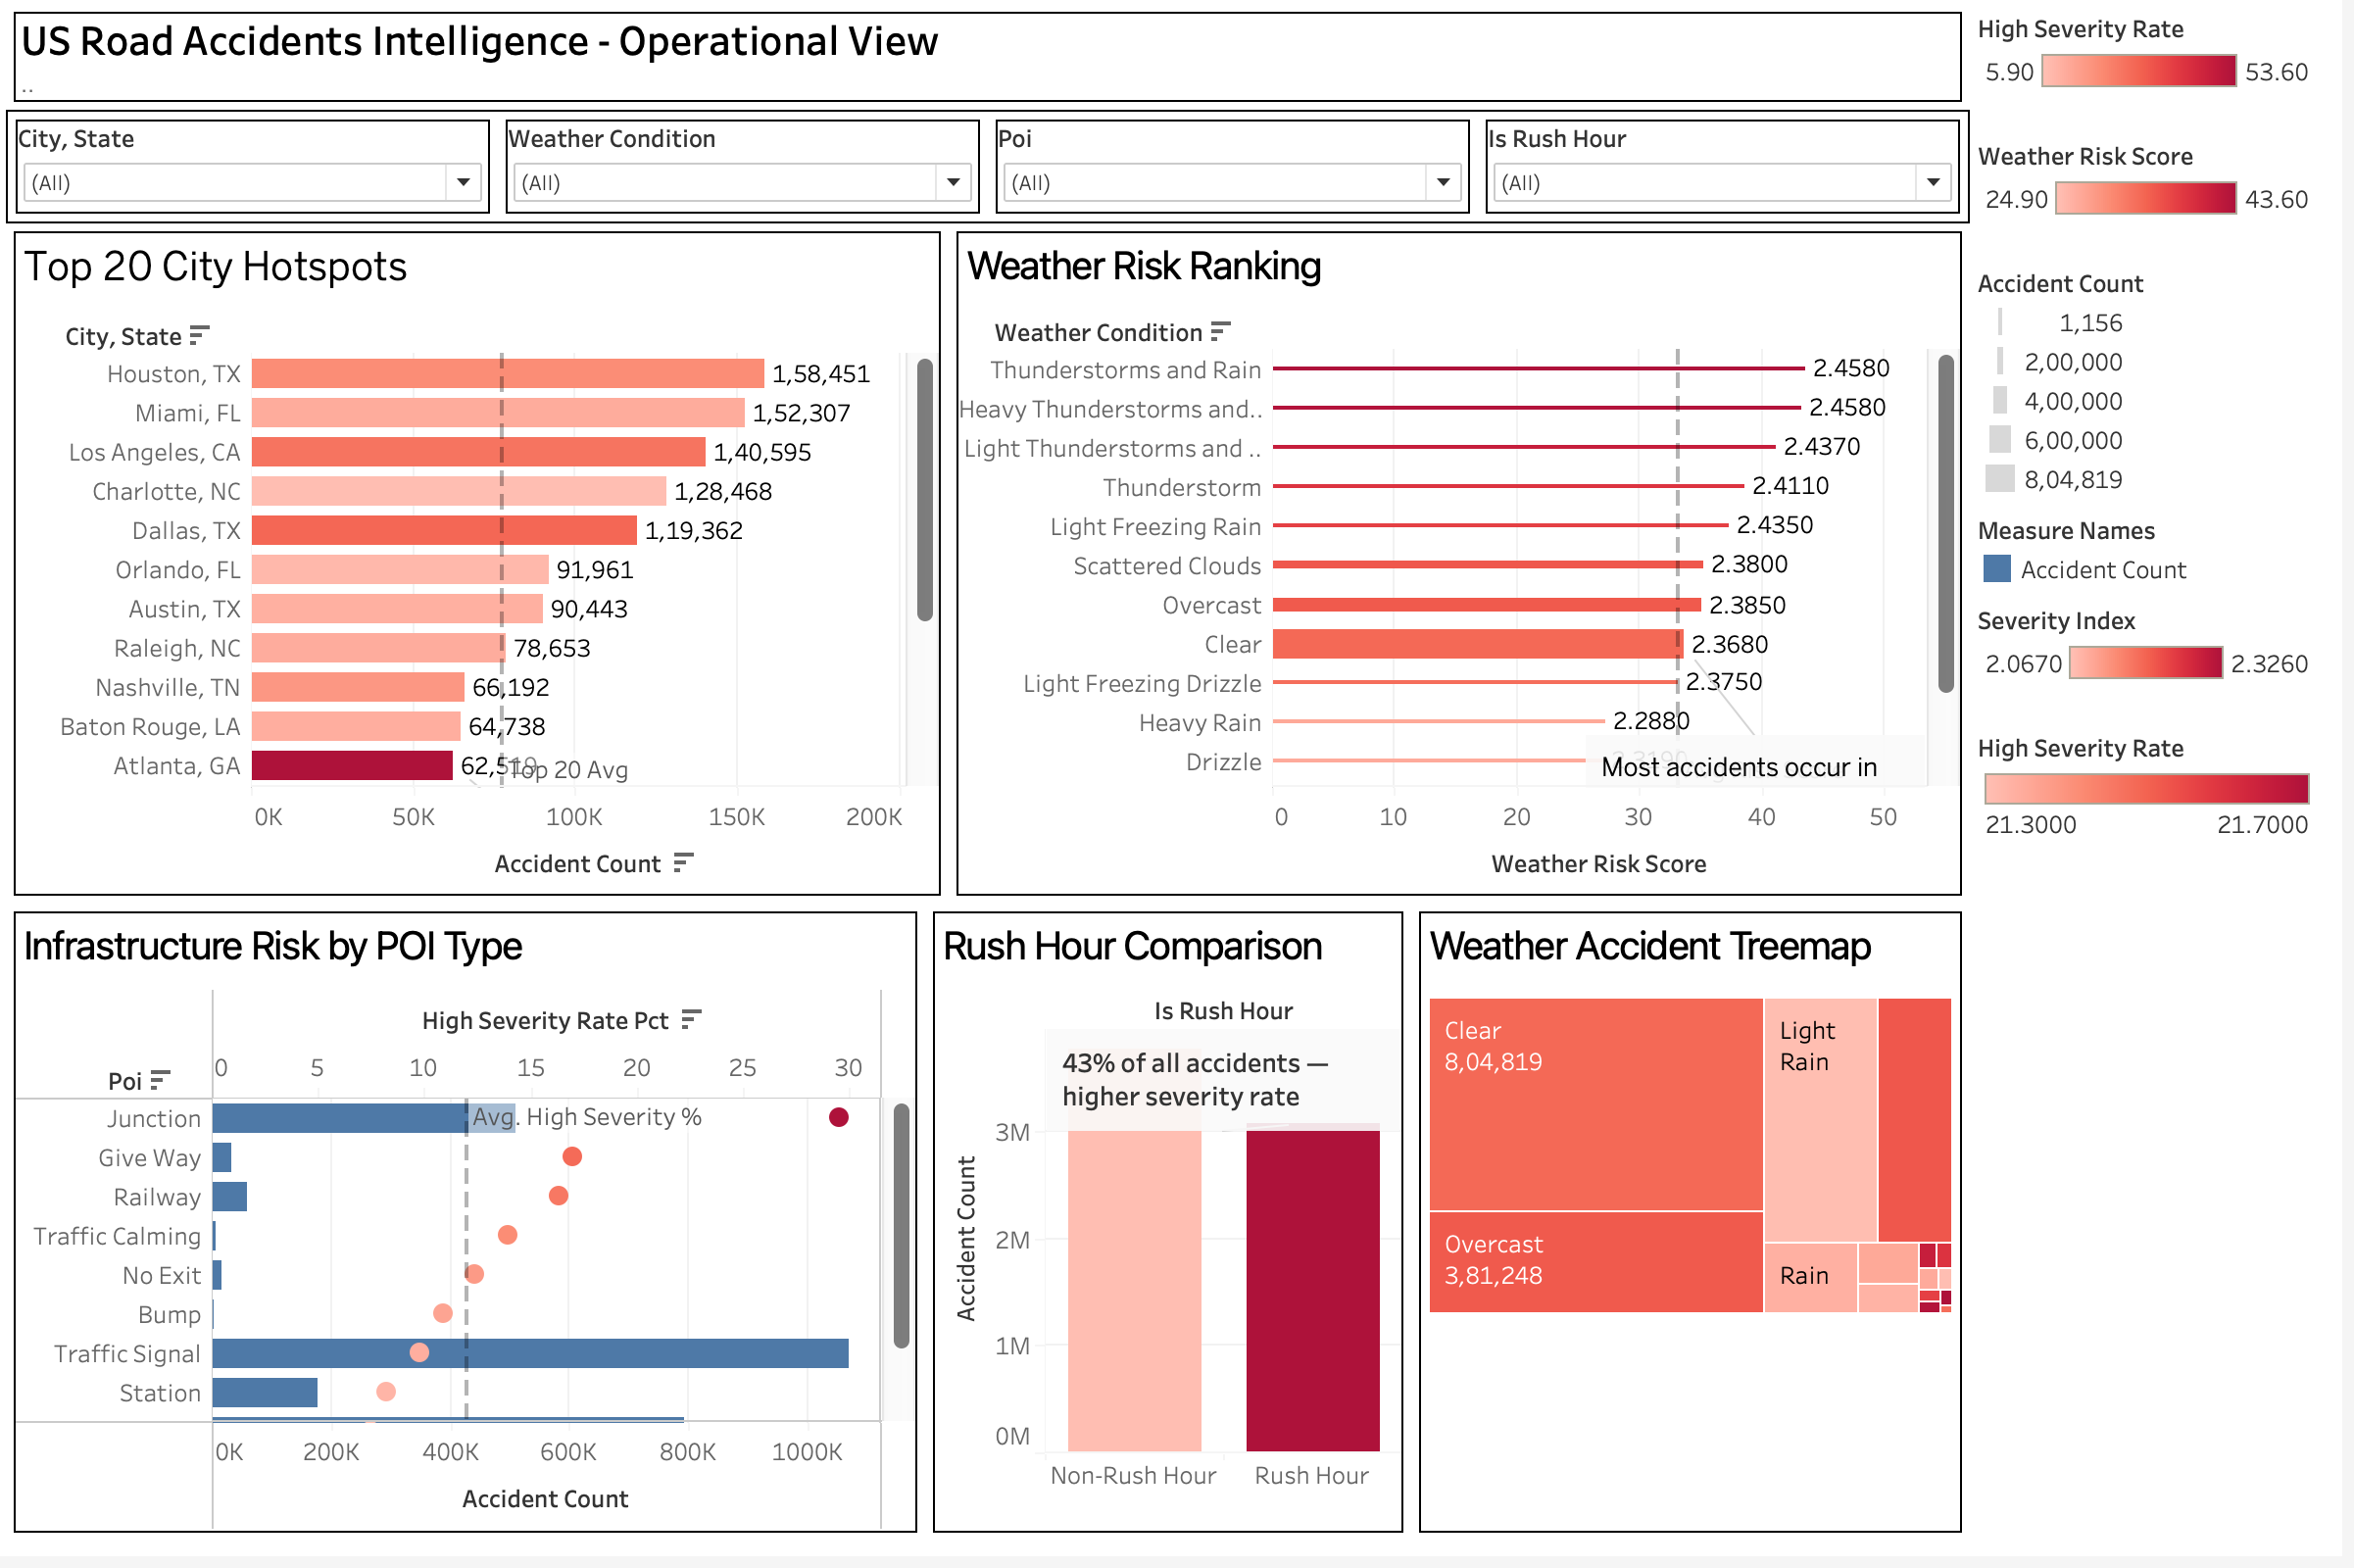

Layout of this report page (visuals, bound fields, positions):
{"tool":"tableau","page":{"name":"Dashboard 2","canvas":[1200,800],"ordinal":1},"visuals":[{"type":"text","box":[8,8,1002,54]},{"type":"legend","title":"Top 20 City Hotspots","param":"[federated.0jneq270983iii1dv6sha1ytug0k].[sum:high_severity_rate:qk]","box":[1010,8,182,65]},{"type":"filter","title":"Top 20 City Hotspots","param":"[federated.0jneq270983iii1dv6sha1ytug0k].[none:Calculation_4370828745777157:nk]","box":[9,63,250,56]},{"type":"filter","title":"Weather Accident Treemap","param":"[federated.1cgut1b17rxbs615b63tz1krf9w0].[none:weather_condition:nk]","box":[259,63,250,56]},{"type":"filter","title":"Infrastructure Risk by POI Type","param":"[federated.0glt0ar1gb2vox1bgq0sl1v5ow8e].[none:poi:nk]","box":[509,63,250,56]},{"type":"filter","title":"Rush Hour Comparison","param":"[federated.0b3kiio1dvg0961611c3r0l8f472].[none:is_rush_hour:nk]","box":[759,63,250,56]},{"type":"legend","title":"Weather Risk Ranking","param":"[federated.1cgut1b17rxbs615b63tz1krf9w0].[sum:weather_risk_score:qk]","box":[1010,73,182,65]},{"type":"worksheet","title":"Top 20 City Hotspots","mark":"Automatic","rows":["Calculation_4370828745777157"],"cols":["accident_count"],"box":[8,120,481,347]},{"type":"worksheet","title":"Weather Risk Ranking","mark":"Automatic","rows":["weather_condition"],"cols":["weather_risk_score"],"box":[489,120,521,347]},{"type":"legend","title":"Weather Risk Ranking","param":"[federated.1cgut1b17rxbs615b63tz1krf9w0].[sum:accident_count:qk]","box":[1010,138,182,126]},{"type":"legend","title":"Infrastructure Risk by POI Type","param":"[federated.0glt0ar1gb2vox1bgq0sl1v5ow8e].[:Measure Names]","box":[1010,264,182,46]},{"type":"legend","title":"Infrastructure Risk by POI Type","param":"[federated.0glt0ar1gb2vox1bgq0sl1v5ow8e].[sum:severity_index:qk]","box":[1010,310,182,65]},{"type":"legend","title":"Rush Hour Comparison","param":"[federated.0b3kiio1dvg0961611c3r0l8f472].[sum:high_severity_rate:qk]","box":[1010,375,182,65]},{"type":"worksheet","title":"Infrastructure Risk by POI Type","mark":"Automatic","rows":["poi"],"cols":["accident_count","high_severity_rate_pct"],"box":[8,467,468.7,325]},{"type":"worksheet","title":"Rush Hour Comparison","mark":"Automatic","rows":["accident_count"],"cols":["is_rush_hour"],"box":[476.7,467,248.3,325]},{"type":"worksheet","title":"Weather Accident Treemap","mark":"Automatic","box":[725,467,285,325]}]}

Visuals, with their boxes in screenshot pixels (x1, y1, x2, y2), scaled from the page's 1200x800 canvas onto the 2354x1568 screenshot:
text: 16/16/1982/122
"Top 20 City Hotspots" legend: 1982/16/2338/143
"Top 20 City Hotspots" filter: 18/123/508/233
"Weather Accident Treemap" filter: 508/123/999/233
"Infrastructure Risk by POI Type" filter: 999/123/1489/233
"Rush Hour Comparison" filter: 1489/123/1980/233
"Weather Risk Ranking" legend: 1982/143/2338/270
"Top 20 City Hotspots" worksheet: 16/235/959/915
"Weather Risk Ranking" worksheet: 959/235/1982/915
"Weather Risk Ranking" legend: 1982/270/2338/517
"Infrastructure Risk by POI Type" legend: 1982/517/2338/608
"Infrastructure Risk by POI Type" legend: 1982/608/2338/735
"Rush Hour Comparison" legend: 1982/735/2338/862
"Infrastructure Risk by POI Type" worksheet: 16/915/935/1552
"Rush Hour Comparison" worksheet: 935/915/1422/1552
"Weather Accident Treemap" worksheet: 1422/915/1982/1552
